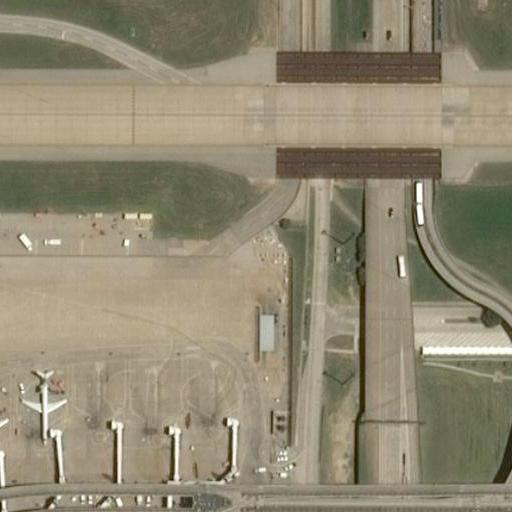Aircraft: (14, 361, 68, 443), (0, 381, 12, 469)
